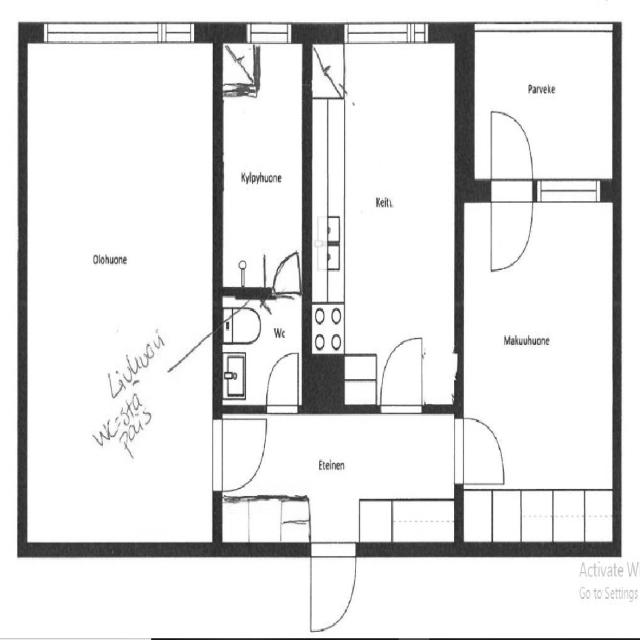door: (220, 295, 304, 413), (483, 103, 537, 276), (306, 534, 362, 636), (453, 406, 512, 496), (375, 328, 430, 420), (213, 410, 269, 497), (262, 346, 303, 416), (266, 248, 306, 304)
window: (45, 17, 195, 57), (338, 10, 437, 56), (531, 166, 609, 216), (241, 14, 297, 50)
zone: (21, 20, 217, 555), (460, 180, 619, 549), (309, 30, 462, 408), (214, 402, 465, 552), (218, 37, 307, 296), (217, 291, 304, 413)
